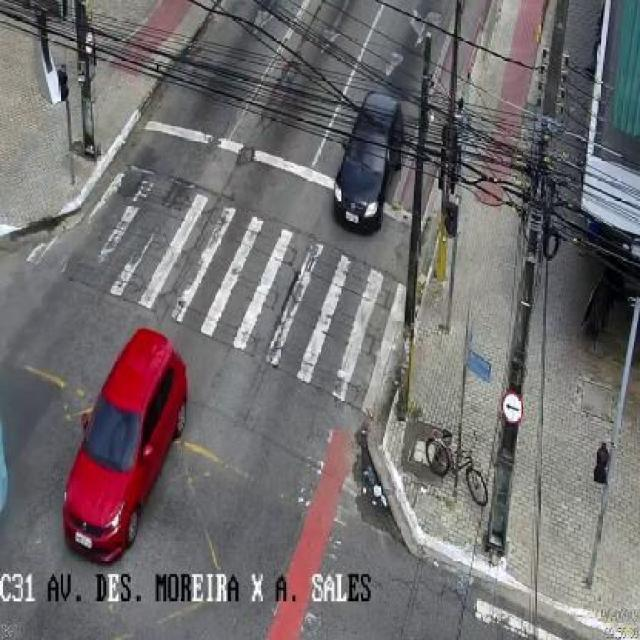bicycle: (425, 429, 489, 506)
car: (62, 329, 185, 563), (334, 92, 402, 232)
